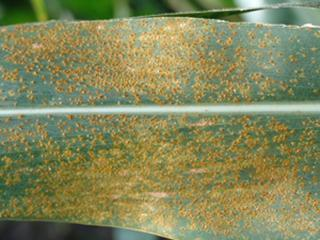Corn_Common_Rust: (0, 113, 320, 240), (0, 18, 320, 105)
